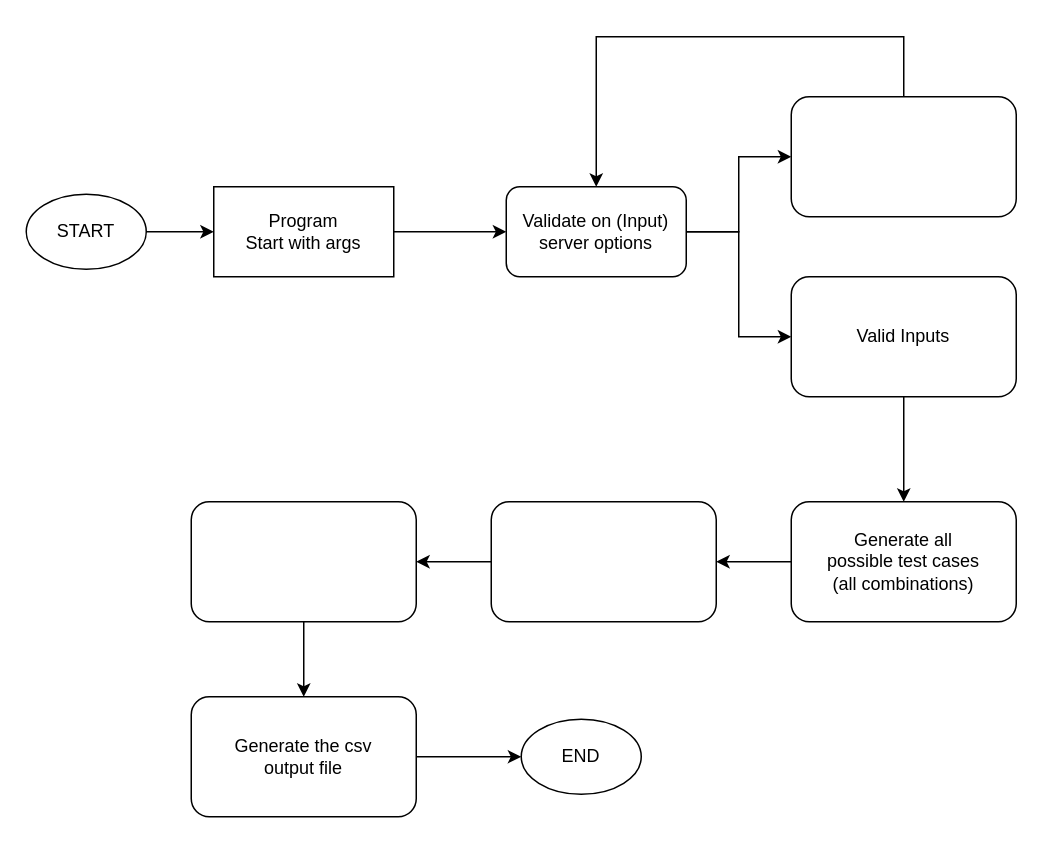
This 1043x843 diagram has some shape labels left out. Here are the shapes that lost their labels. From the top down, the box of each, then its label:
(790, 95, 1016, 217): Invalid Inputs program runs until press q or enter valid inputs
(190, 500, 416, 622): Check if each test case is valid or Invalid
(490, 500, 716, 622): Add the expected values
